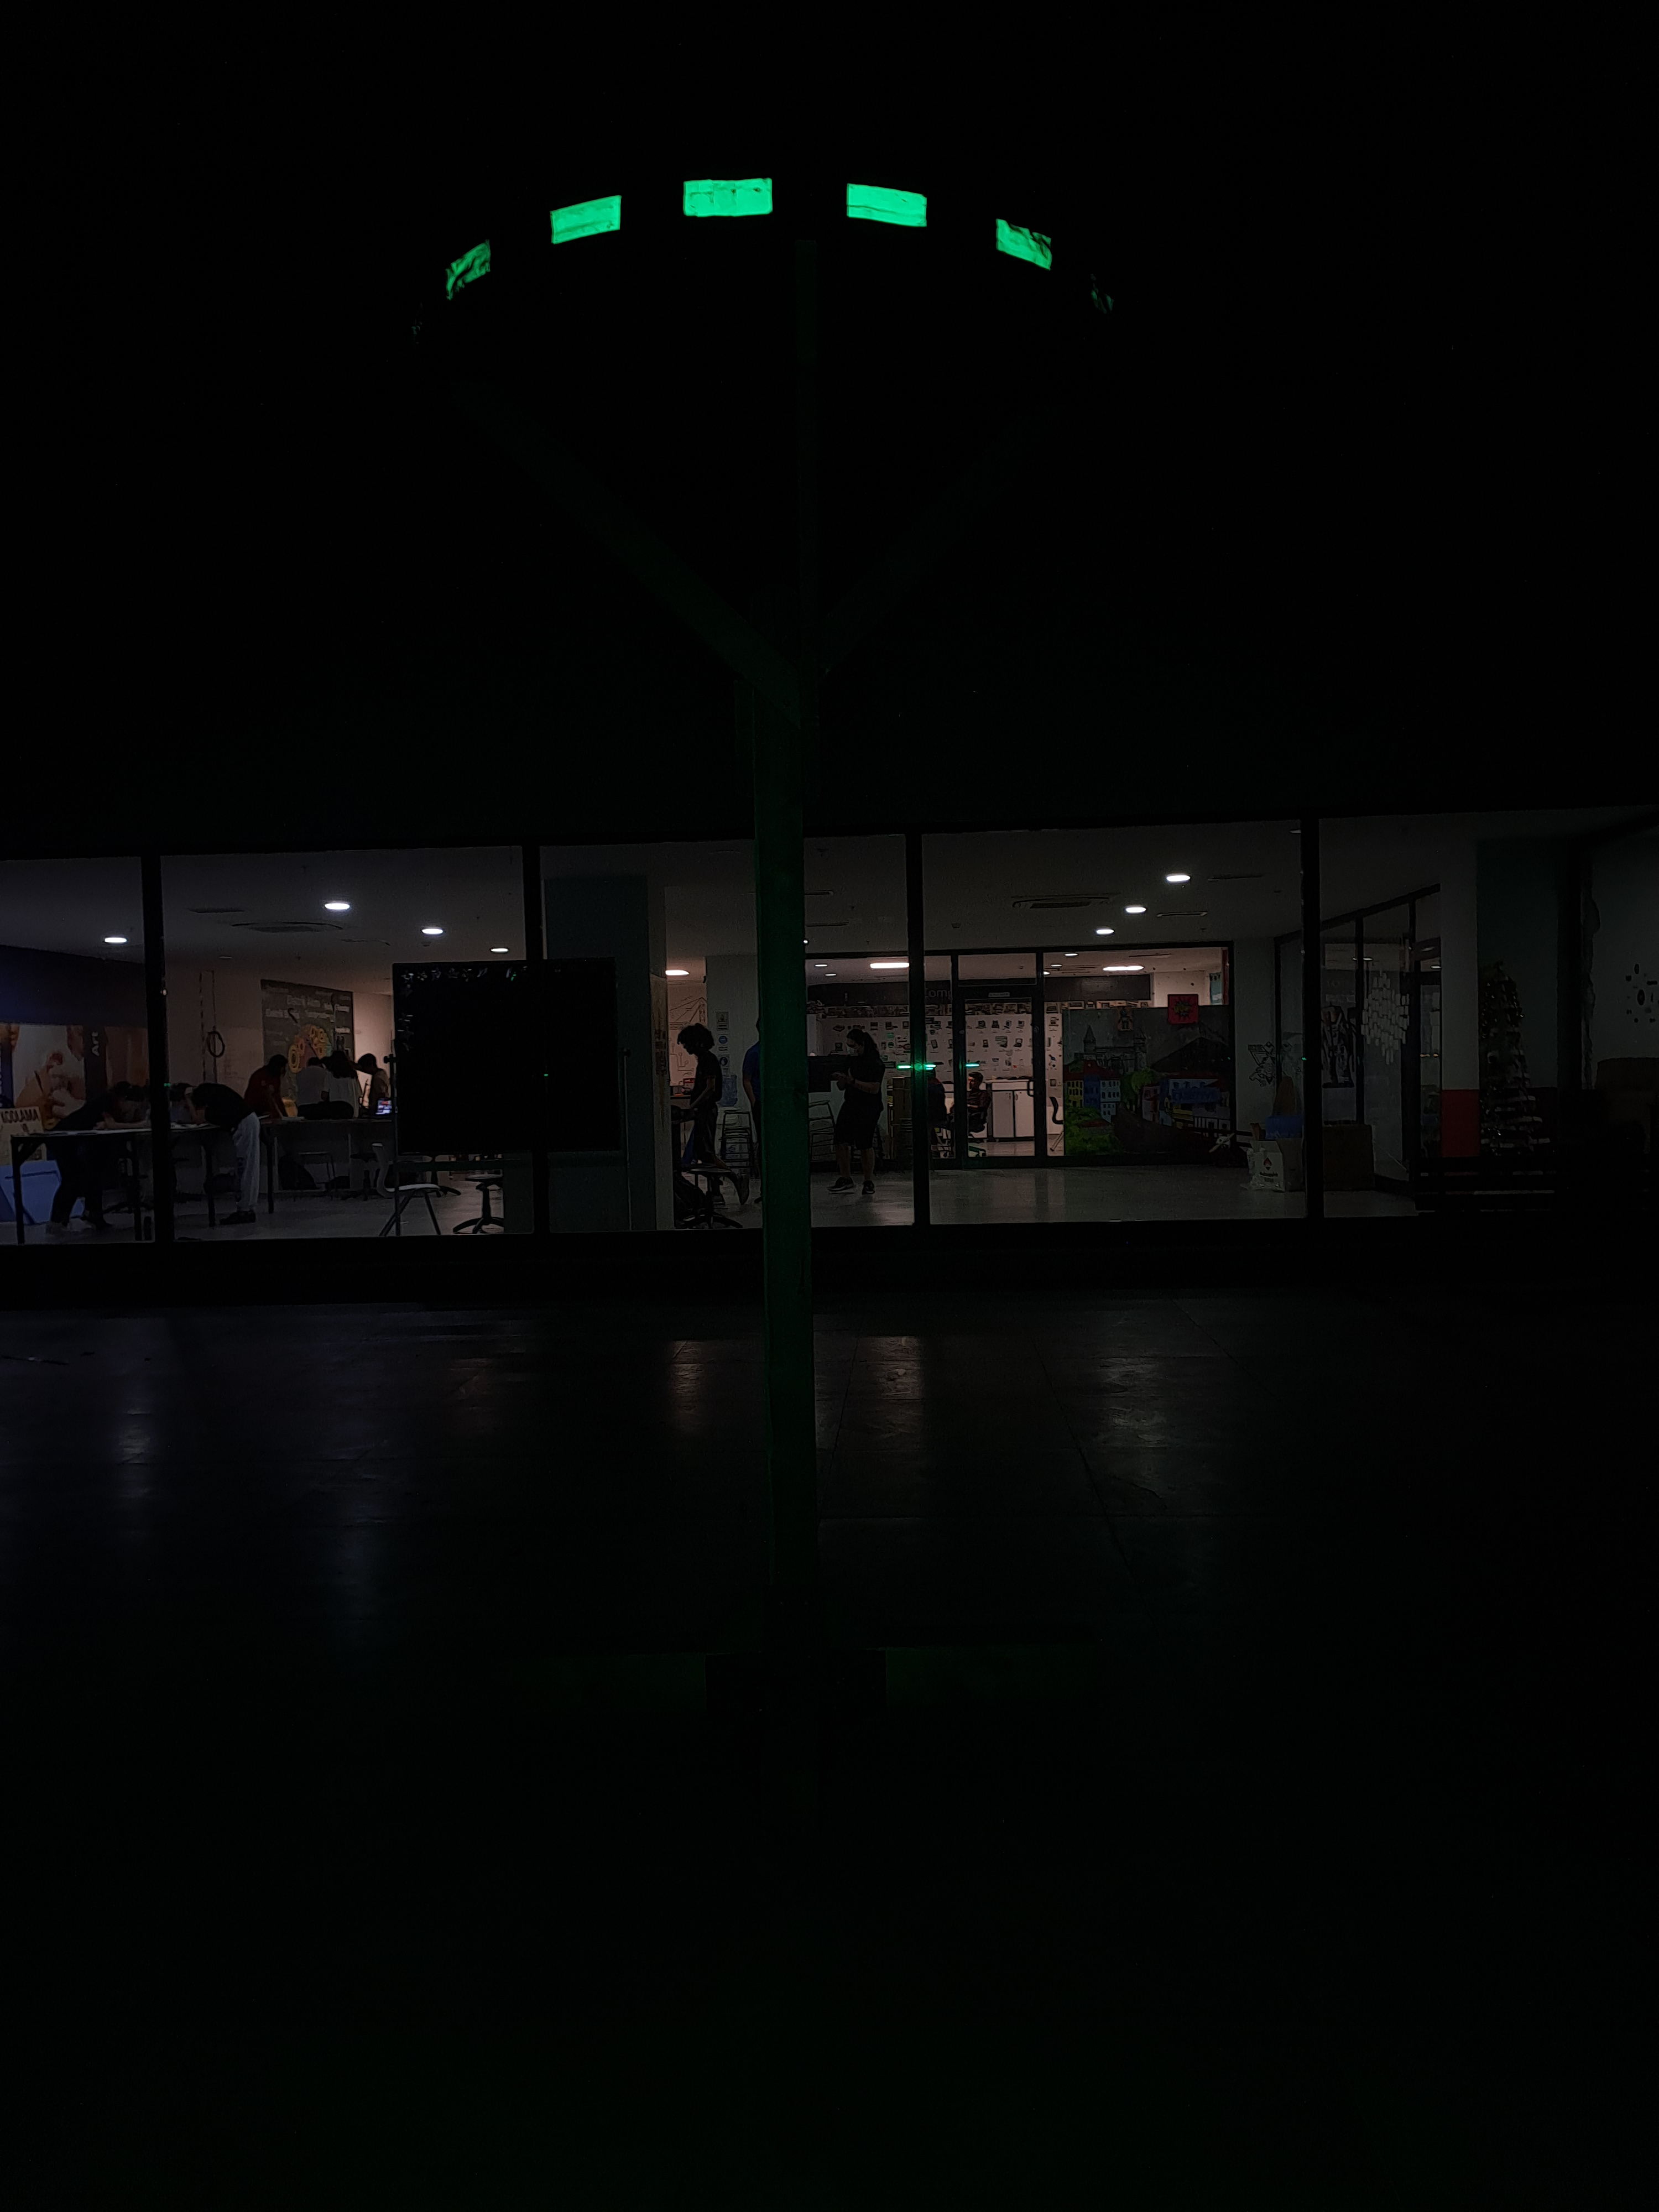hoop: (439, 176, 1054, 307)
